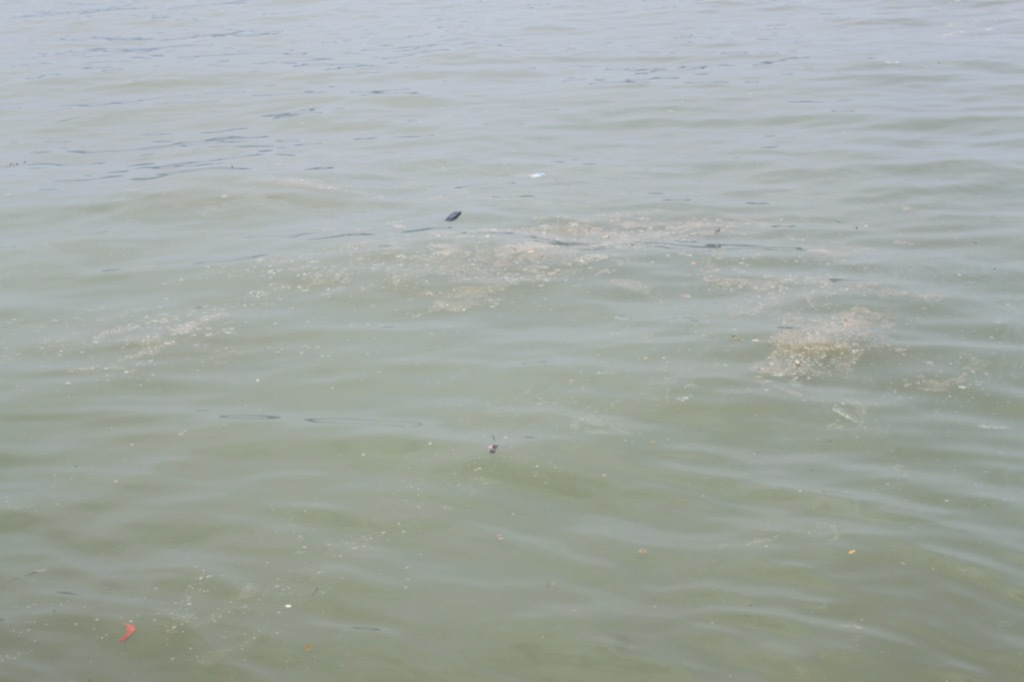organic: (484, 434, 503, 458)
plastic: (822, 387, 875, 432), (967, 403, 1017, 442), (108, 609, 144, 653), (434, 197, 475, 235), (515, 161, 559, 190), (705, 217, 732, 242), (788, 349, 809, 376)
